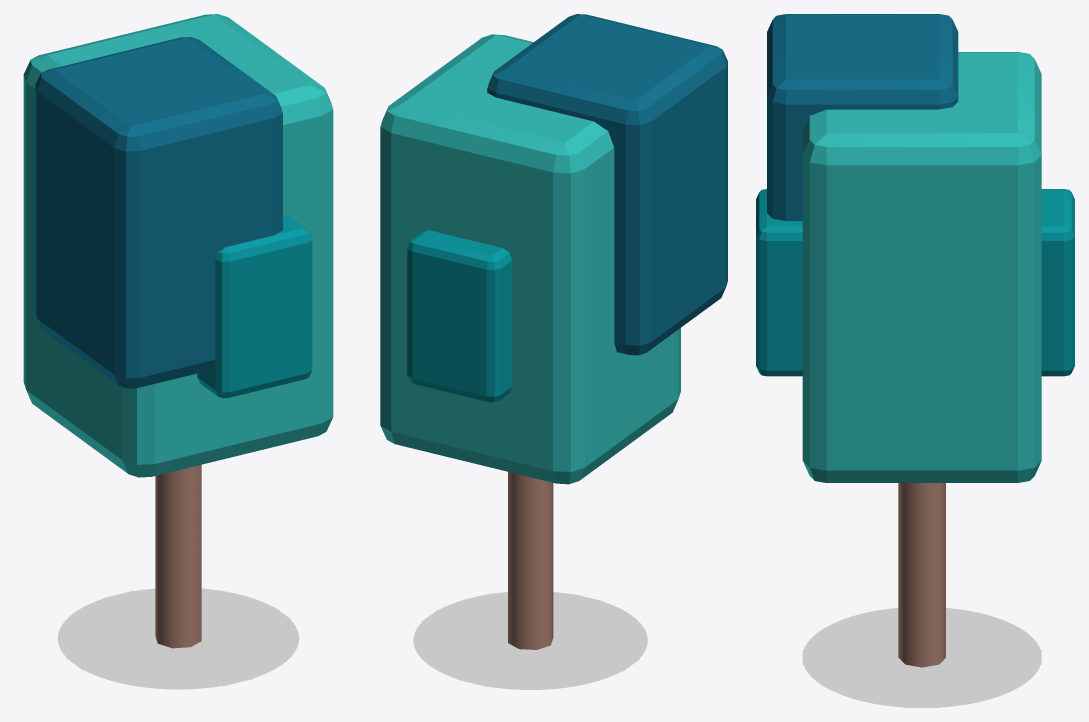
File: tree2.glb
3 renders of one model, left to right at view 1: azimuth 30°, elevation 25°; view 2: azimuth 150°, elevation 25°; view 3: azimuth 270°, elevation 25°, orthographic. The views are drawn at different scales.
Parts seen in each view (by area): view 1: leaves3, leaves1, shadow, leaves2, trunk; view 2: leaves1, leaves3, leaves2, shadow, trunk; view 3: leaves1, leaves3, shadow, leaves2, trunk.
Boxes of the visible parts, x1,y1,x2,y2 form: leaves3: (35, 37, 282, 388); leaves1: (23, 14, 333, 477); shadow: (57, 588, 299, 689); leaves2: (197, 215, 312, 398); trunk: (155, 464, 201, 648); leaves1: (380, 34, 680, 484); leaves3: (487, 14, 727, 355); leaves2: (407, 230, 512, 402); shadow: (413, 592, 647, 689); trunk: (508, 472, 553, 649); leaves1: (802, 52, 1041, 482); leaves3: (767, 14, 958, 220); shadow: (802, 607, 1041, 707); leaves2: (756, 189, 1074, 376); trunk: (898, 483, 945, 667).
Size of the model in its own units: 1.14 by 2.71 by 1.33.
Materials: 5 (1 with a texture image).
